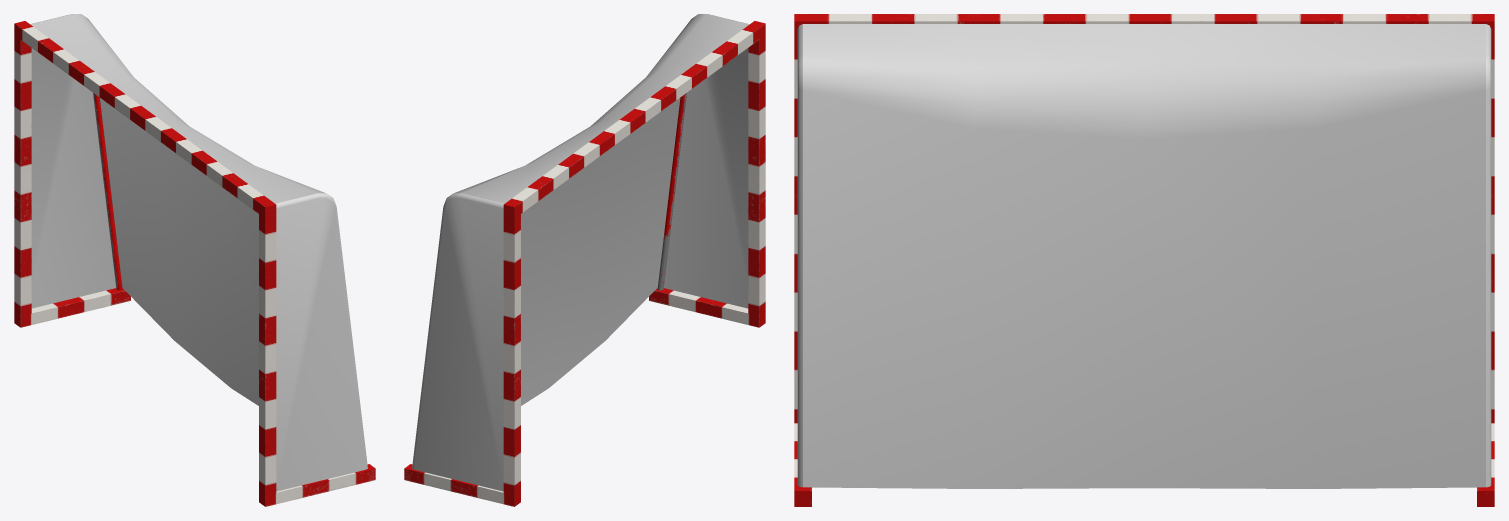
File: mesh_gate.FBX
3 views of the same model, side by side, from view 1: azimuth 30°, elevation 25°; view 2: azimuth 150°, elevation 25°; view 3: azimuth 270°, elevation 25° (orthographic). The views are drawn at different scales.
Visible parts, largest first — view 1: Object100, mesh_gate; view 2: Object100, mesh_gate; view 3: Object100, mesh_gate.
Part boxes in pixels (bbox=[...]): Object100: bbox=[30, 14, 367, 491]; mesh_gate: bbox=[14, 21, 375, 506]; Object100: bbox=[412, 14, 749, 491]; mesh_gate: bbox=[404, 21, 765, 506]; Object100: bbox=[797, 24, 1491, 488]; mesh_gate: bbox=[794, 14, 1494, 506].
Bounding box in the file's own units: 0.8012 × 2.08 × 3.16.
2 materials, 1 textured.
